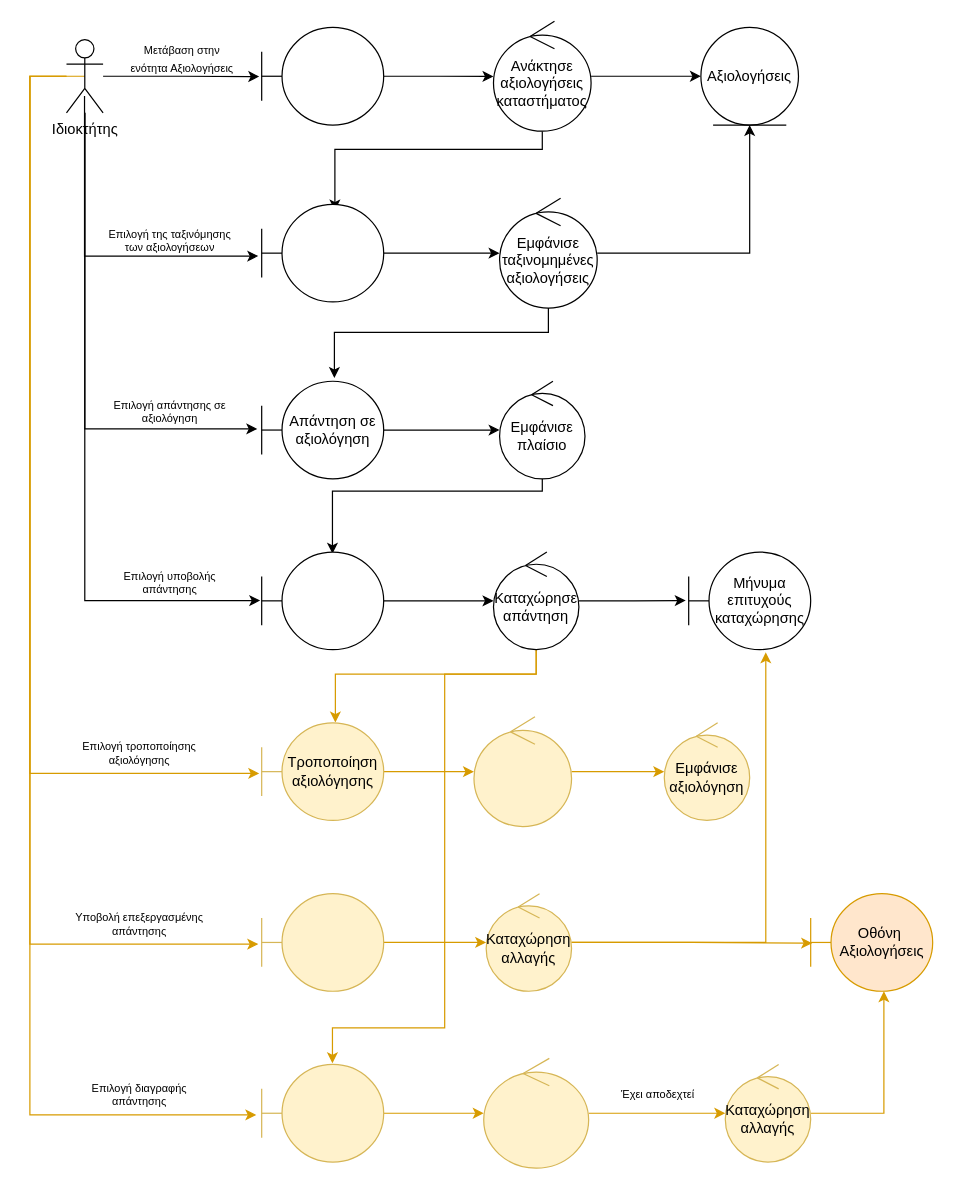
This 954x1190 diagram has some shape labels left out. The shapes that lost their labels are listed below. From the top down, each one's box as (x1, y1, x2, y2) in pixels, then its label:
(260, 26, 384, 125): Ενότητα αξιολογήσεις
(260, 203, 384, 302): Επιλογές ταξινόμησης
(260, 551, 384, 650): Υποβολή απάντησης
(473, 716, 572, 827): Ανάκτησε δεδομένα αξιολογήσεων
(260, 892, 384, 991): Υποβολή νέας απάντησης
(260, 1063, 384, 1162): Διαγραφή απάντησης
(483, 1057, 589, 1168): Εμφάνιση μηνύματος ερώτησης επιβεβαίωσης
